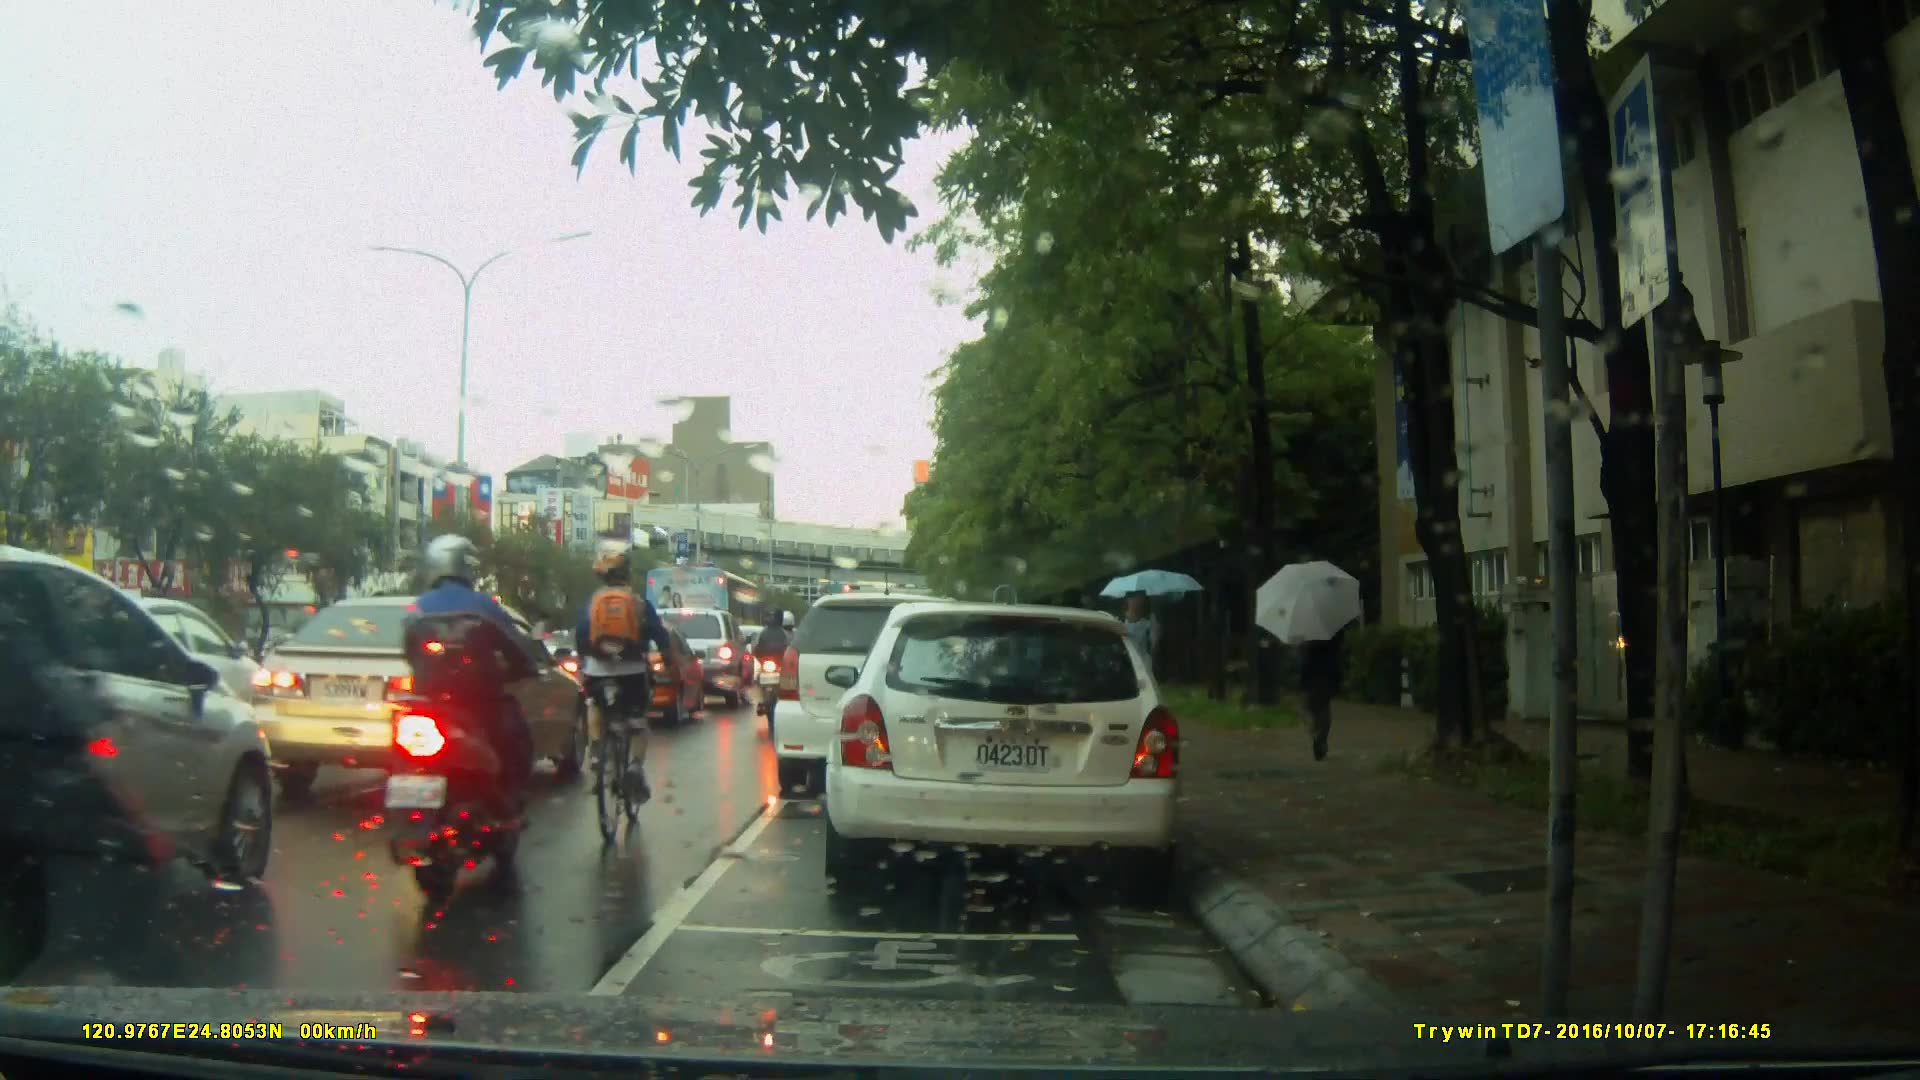pedestrian: (1281, 577, 1346, 763), (1123, 570, 1176, 780)
rider: (392, 534, 532, 897), (576, 551, 688, 855), (762, 610, 795, 728)
vehicle: (1, 549, 281, 966), (835, 594, 1194, 898), (232, 594, 599, 801), (776, 590, 1026, 784), (554, 619, 710, 728), (648, 564, 765, 673)
